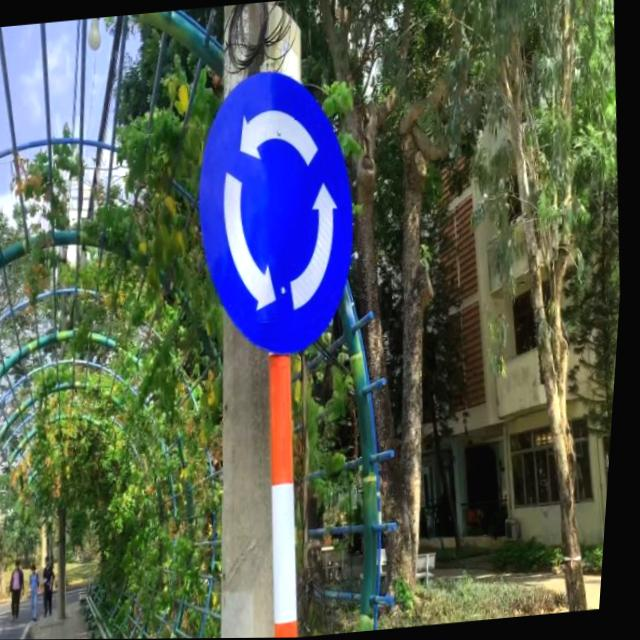Noi giao nhau chay theo vong xuyen: (181, 63, 377, 365)
